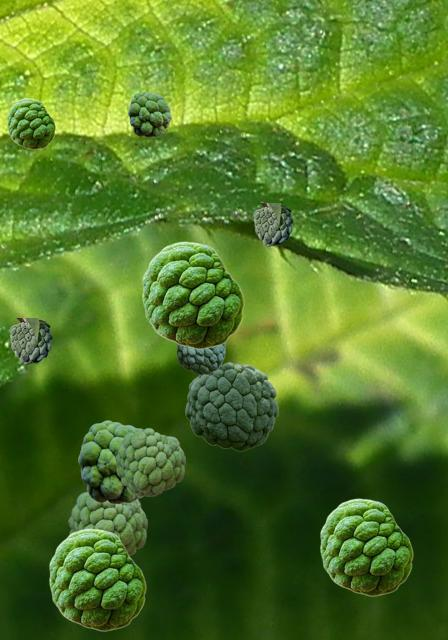atis: (142, 241, 243, 348), (49, 528, 145, 630), (320, 498, 412, 595), (185, 362, 277, 450), (78, 420, 143, 503), (68, 491, 146, 555), (115, 428, 184, 495), (9, 318, 74, 363), (253, 203, 313, 245), (7, 98, 54, 148), (128, 91, 170, 136), (177, 344, 224, 373)
